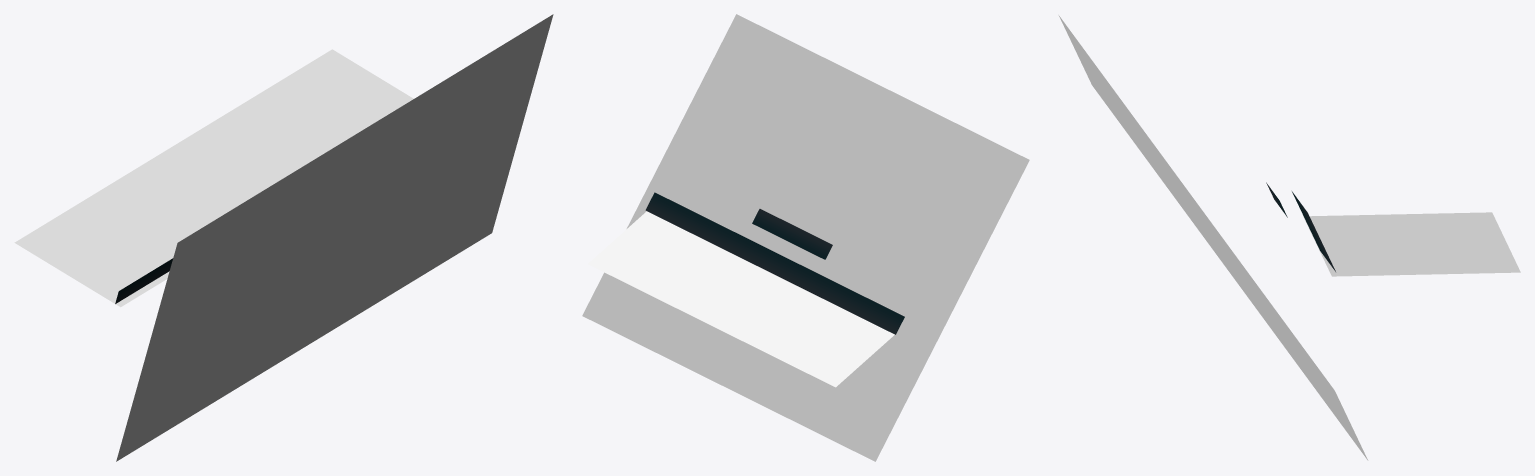
The model's file is ParallaxContainer.fbx.
3 views of the same model, side by side, from view 1: azimuth 30°, elevation 25°; view 2: azimuth 150°, elevation 25°; view 3: azimuth 270°, elevation 25° (orthographic). The views are drawn at different scales.
Visible parts, largest first — view 1: _Combined_VisBackgroundChild_Prelude_Ground_Mat, _Combined_VisBackgroundChild_Prelude_GroundLight_Mat, _Combined_VisFogChild_GroundInterpolation_Mat; view 2: _Combined_VisBackgroundChild_Prelude_Ground_Mat, _Combined_VisBackgroundChild_Prelude_GroundLight_Mat, _Combined_VisFogChild_GroundInterpolation_Mat, _Combined_VisFogChild_GroundFog_Mat; view 3: _Combined_VisBackgroundChild_Prelude_GroundLight_Mat, _Combined_VisBackgroundChild_Prelude_Ground_Mat.
Part boxes in pixels (bbox=[...]): _Combined_VisBackgroundChild_Prelude_Ground_Mat: bbox=[116, 14, 553, 461]; _Combined_VisBackgroundChild_Prelude_GroundLight_Mat: bbox=[14, 49, 413, 307]; _Combined_VisFogChild_GroundInterpolation_Mat: bbox=[115, 258, 172, 303]; _Combined_VisBackgroundChild_Prelude_Ground_Mat: bbox=[582, 14, 1029, 461]; _Combined_VisBackgroundChild_Prelude_GroundLight_Mat: bbox=[588, 211, 894, 387]; _Combined_VisFogChild_GroundInterpolation_Mat: bbox=[645, 192, 904, 334]; _Combined_VisFogChild_GroundFog_Mat: bbox=[752, 209, 832, 259]; _Combined_VisBackgroundChild_Prelude_GroundLight_Mat: bbox=[1303, 212, 1520, 276]; _Combined_VisBackgroundChild_Prelude_Ground_Mat: bbox=[1058, 15, 1368, 460].
Bounding box in the file's own units: 114 × 107 × 97.68.
4 materials, 2 textured.
